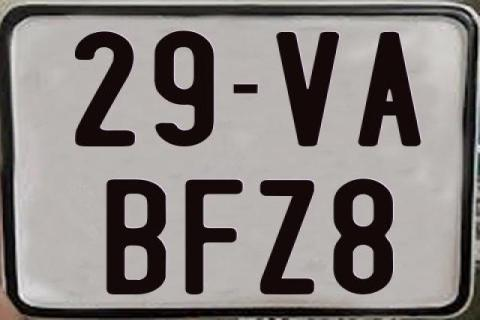0: (153, 30, 217, 150), (75, 29, 138, 150), (331, 178, 396, 294)
A: (356, 32, 421, 150)
B: (106, 177, 171, 296)
F: (182, 178, 242, 298)
V: (273, 31, 341, 151)
Z: (257, 178, 311, 298)
